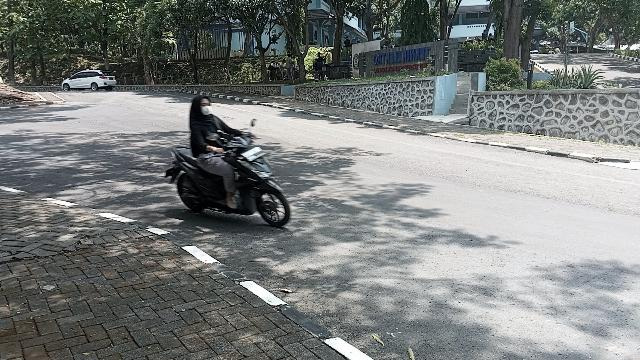motor: (167, 139, 292, 229)
non-helm: (194, 98, 213, 117)
